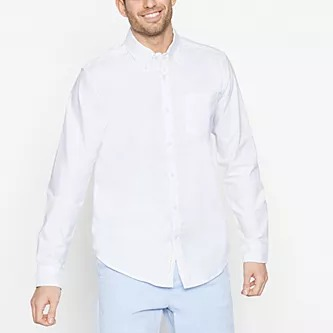S_shirt: (35, 28, 268, 287)
